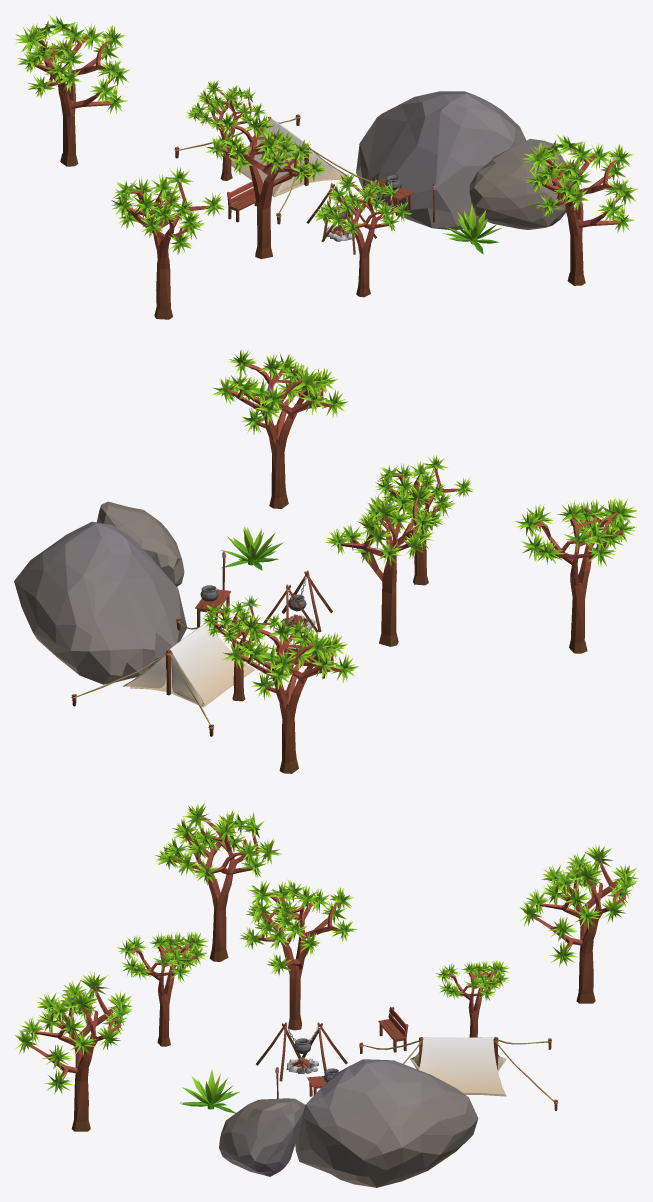
3 views of the same model, one above another, from view 1: azimuth 30°, elevation 25°; view 2: azimuth 150°, elevation 25°; view 3: azimuth 270°, elevation 25° (orthographic). The views are drawn at different scales.
Visible parts, largest first — view 1: RockGrey2_high (4), JoshuaTree3 (1), JoshuaTree3, RockGrey2_high (5), JoshuaTree1 (1), JoshuaTree2 (4), JoshuaTree2 (2), Tent1, JoshuaTree2 (3), AgaveLow (1), CookingFireplace, Bench1; view 2: RockGrey2_high (4), JoshuaTree3, JoshuaTree3 (1), JoshuaTree2 (4), JoshuaTree1 (1), Tent1, JoshuaTree2 (2), RockGrey2_high (5), JoshuaTree2 (3), CookingFireplace, AgaveLow (1); view 3: RockGrey2_high (4), JoshuaTree3 (1), JoshuaTree3, JoshuaTree2 (4), JoshuaTree1 (1), RockGrey2_high (5), Tent1, JoshuaTree2 (2), JoshuaTree2 (3), CookingFireplace, AgaveLow (1), Bench1.
Part boxes in pixels (x1,y1,x2,y2): RockGrey2_high (4): (356,91,526,230); JoshuaTree3 (1): (522,134,638,285); JoshuaTree3: (14,15,130,166); RockGrey2_high (5): (469,139,575,229); JoshuaTree1 (1): (205,112,326,259); JoshuaTree2 (4): (110,166,225,319); JoshuaTree2 (2): (314,172,412,297); Tent1: (174,114,373,224); JoshuaTree2 (3): (186,80,266,180); AgaveLow (1): (443,203,502,254); CookingFireplace: (306,183,376,254); Bench1: (227,181,256,222); RockGrey2_high (4): (14,521,186,684); JoshuaTree3: (222,613,358,773); JoshuaTree3 (1): (212,349,348,508); JoshuaTree2 (4): (515,497,637,653); JoshuaTree1 (1): (325,484,442,646); Tent1: (71,618,274,736); JoshuaTree2 (2): (375,455,473,585); RockGrey2_high (5): (97,501,184,586); JoshuaTree2 (3): (202,595,279,701); CookingFireplace: (263,570,332,647); AgaveLow (1): (220,526,283,570); RockGrey2_high (4): (295,1059,478,1187); JoshuaTree3 (1): (15,972,132,1131); JoshuaTree3: (519,844,638,1003); JoshuaTree2 (4): (154,802,281,961); JoshuaTree1 (1): (240,879,357,1030); RockGrey2_high (5): (219,1098,305,1176); Tent1: (359,1037,557,1110); JoshuaTree2 (2): (117,931,208,1046); JoshuaTree2 (3): (435,960,509,1037); CookingFireplace: (256,1022,347,1081); AgaveLow (1): (180,1069,239,1113); Bench1: (378,1007,408,1052).
Bounding box in the file's own units: 453 × 162 × 500.
Materials: 1 (1 with a texture image).
